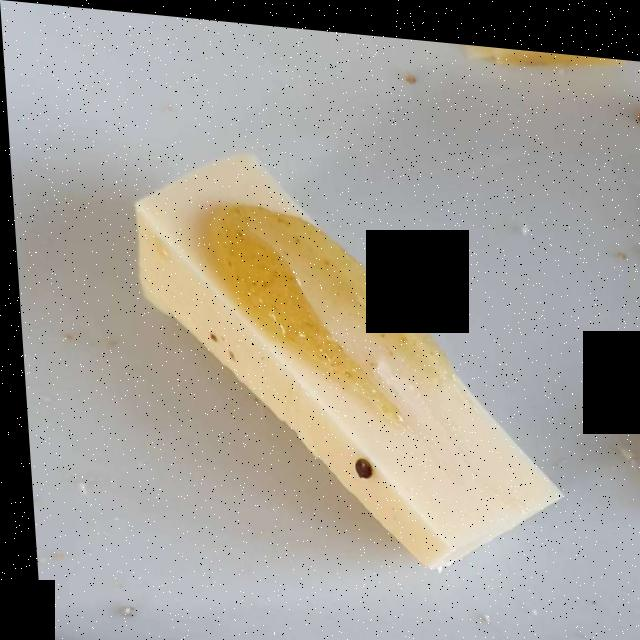hard-cheese: (139, 174, 537, 552)
jam: (199, 192, 452, 423)
